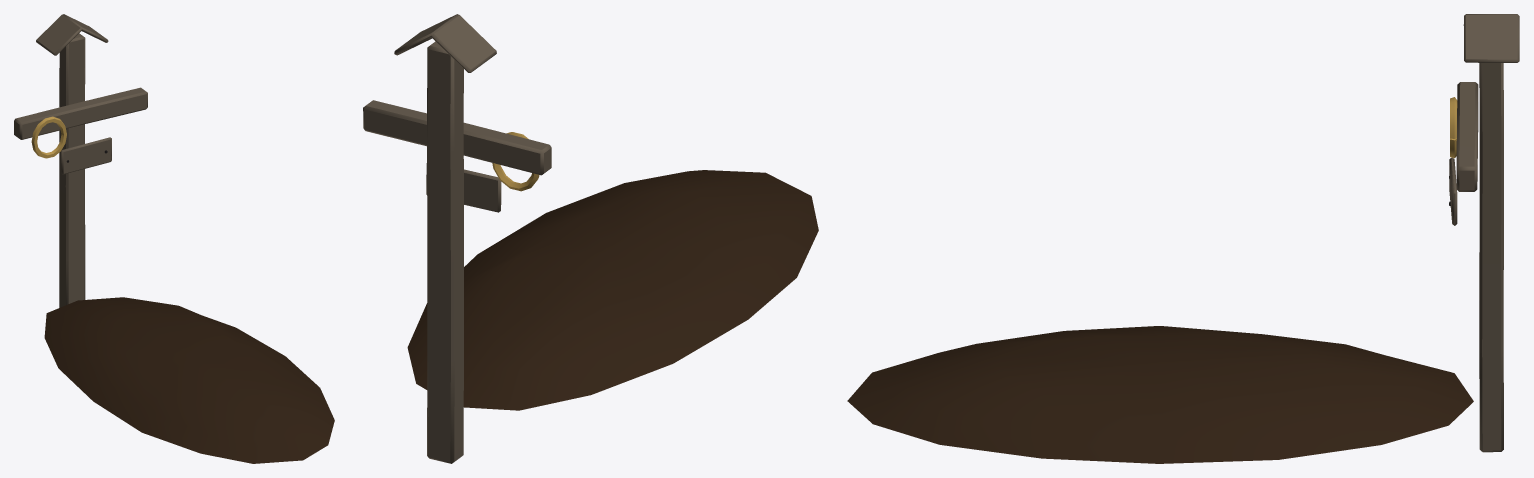
File: grabkreuz.glb
3 renders of one model, left to right at view 1: azimuth 30°, elevation 25°; view 2: azimuth 150°, elevation 25°; view 3: azimuth 270°, elevation 25°, orthographic. The views are drawn at different scales.
Visible parts, largest first — view 1: grabkreuz; view 2: grabkreuz; view 3: grabkreuz.
Boxes of the visible parts, x1,y1,x2,y2 form: grabkreuz: (14, 14, 334, 463); grabkreuz: (363, 14, 818, 463); grabkreuz: (847, 14, 1519, 463).
Bounding box in the file's own units: 0.8964 × 1.37 × 1.93.
